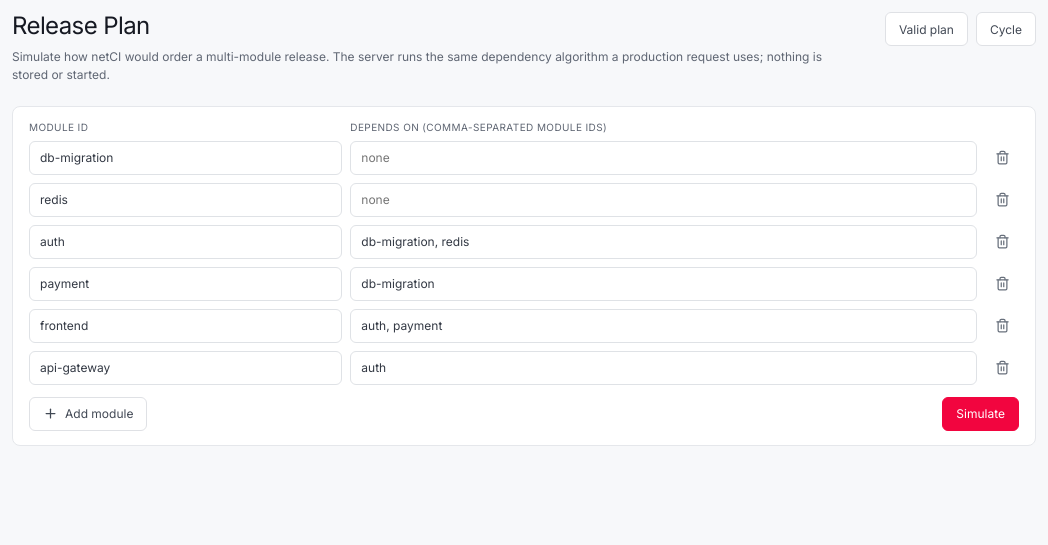
it: ReleasePlanPage › names a refusal that is not a cycle without inventing a loop
The image size is (1048, 545).
Click the button "Simulate".
click(981, 414)  # box [942,397,1019,431]
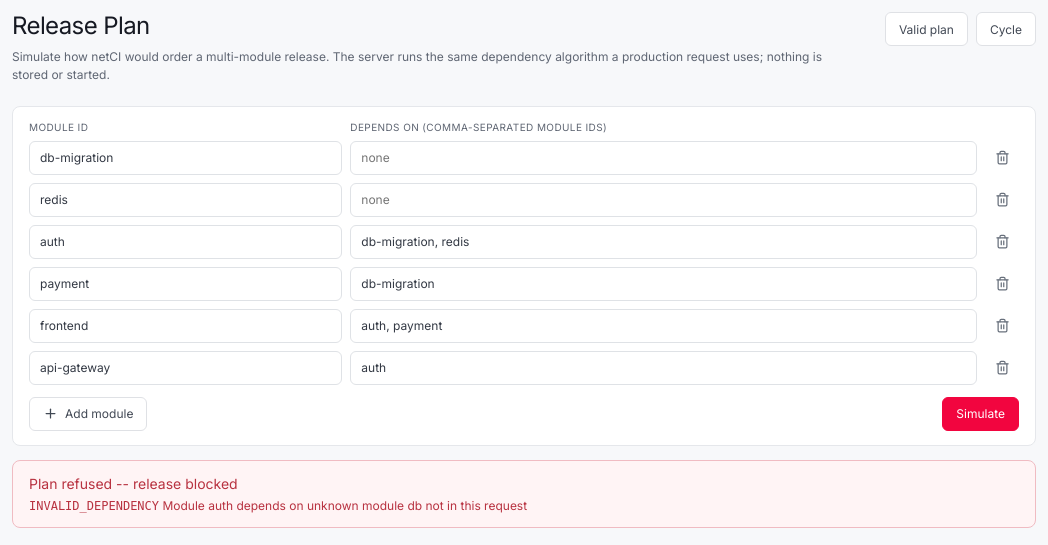
Now the heading "Plan refused -- release blocked" is shown, box [29,475,238,492]
Now the text "INVALID_DEPENDENCY" is shown, box [29,499,159,513]
